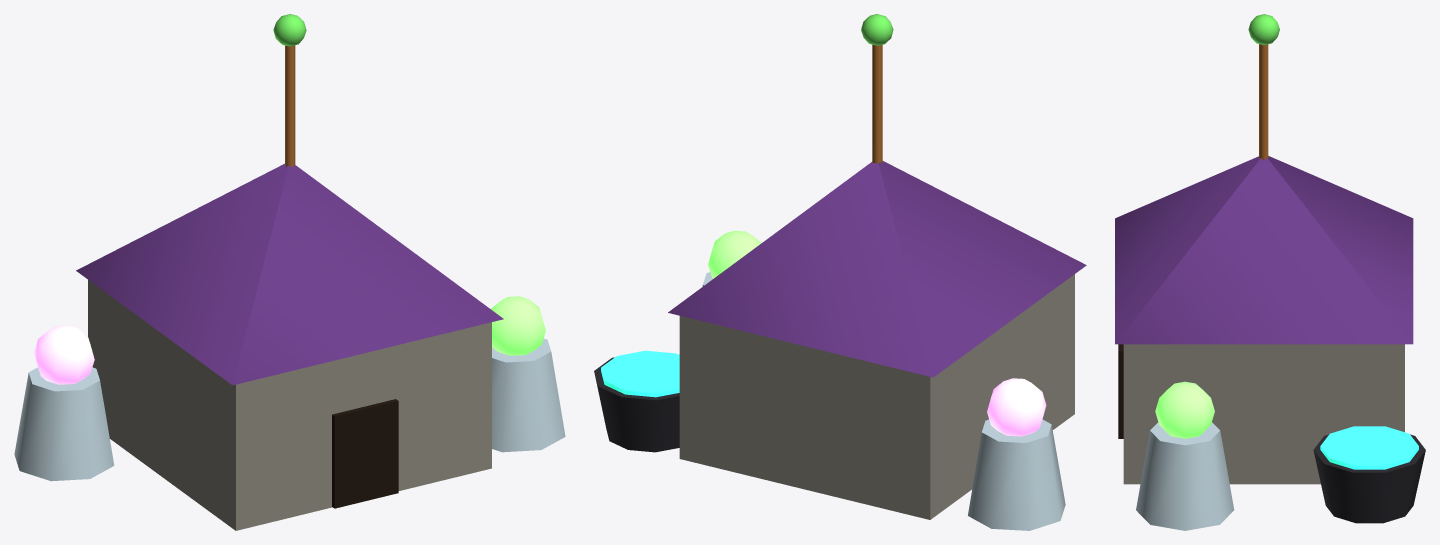
File: level3.glb
The picture shows the model from 3 angles, left to right: view 1: azimuth 30°, elevation 25°; view 2: azimuth 150°, elevation 25°; view 3: azimuth 270°, elevation 25°; orthographic projection. The views are drawn at different scales.
Size of the model in its own units: 3.2 by 2.88 by 1.98.
